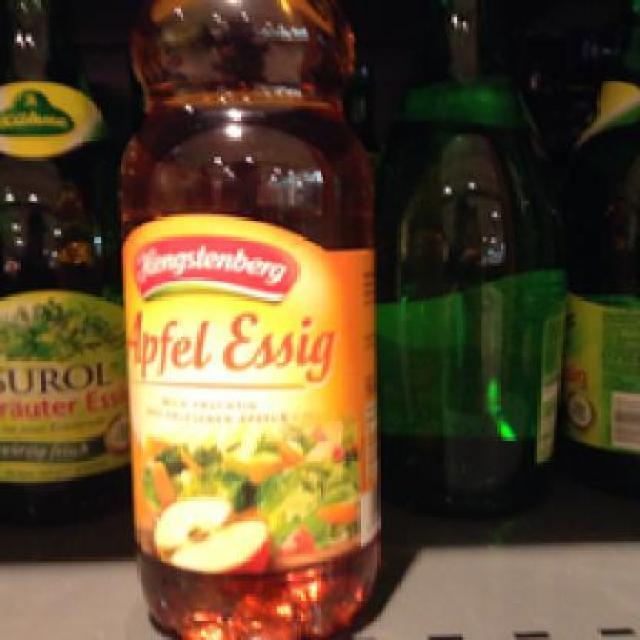Vinegar: (113, 0, 406, 632), (386, 0, 560, 509), (0, 0, 115, 524)
